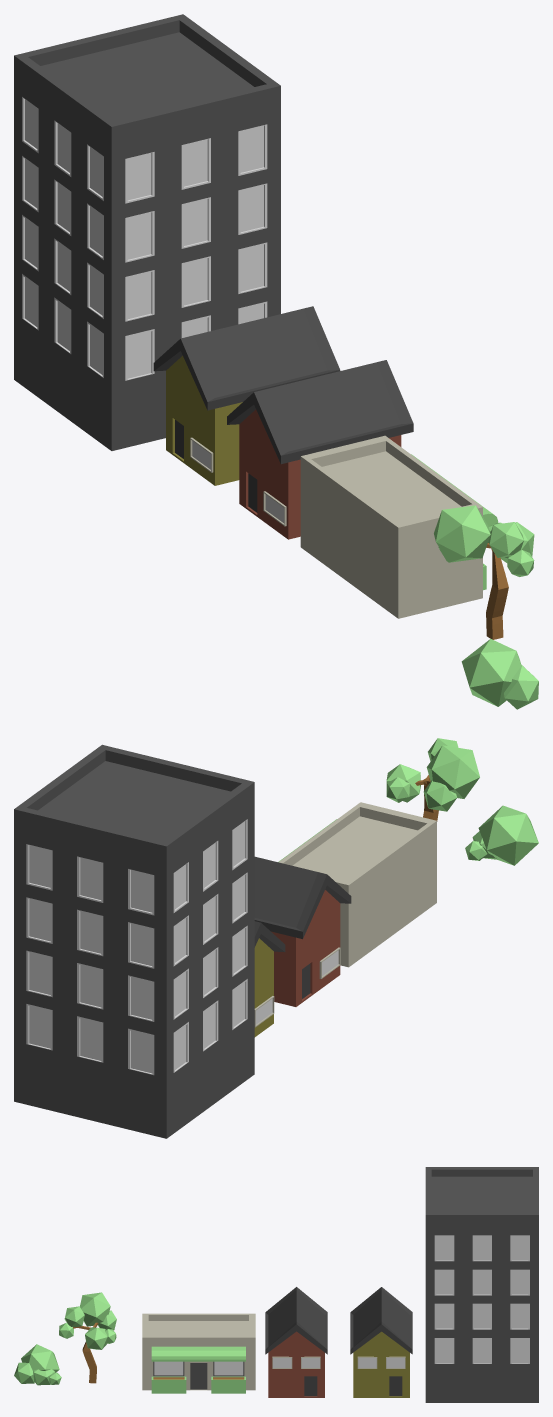
Rendered from Background Buildings & Tree.fbx.
3 views of the same model, one above another, from view 1: azimuth 30°, elevation 25°; view 2: azimuth 150°, elevation 25°; view 3: azimuth 270°, elevation 25° (orthographic). The views are drawn at different scales.
Visible parts, largest first — view 1: Skyscraper, Shop, House 2, House, Leaves, Bush, Tree; view 2: Skyscraper, Shop, House, Leaves, Bush, House 2; view 3: Skyscraper, Shop, House 2, House, Leaves, Bush, Tree.
Part boxes in pixels (x1,y1,x2,y2): Skyscraper: (14,14,280,450); Shop: (300,435,498,618); House 2: (153,306,340,485); House: (227,360,413,539); Leaves: (434,505,534,576); Bush: (461,638,538,709); Tree: (486,543,508,639); Skyscraper: (14,744,254,1138); Shop: (278,802,436,967); House: (254,856,351,1006); Leaves: (386,738,479,811); Bush: (465,805,538,865); House 2: (254,921,285,1037); Skyscraper: (425,1167,538,1402); Shop: (142,1313,255,1393); House 2: (350,1287,412,1397); House: (265,1287,327,1397); Leaves: (59,1292,116,1349); Bush: (14,1344,61,1385); Tree: (73,1322,98,1383).
Bounding box in the file's own units: 400 × 778 × 1852.
